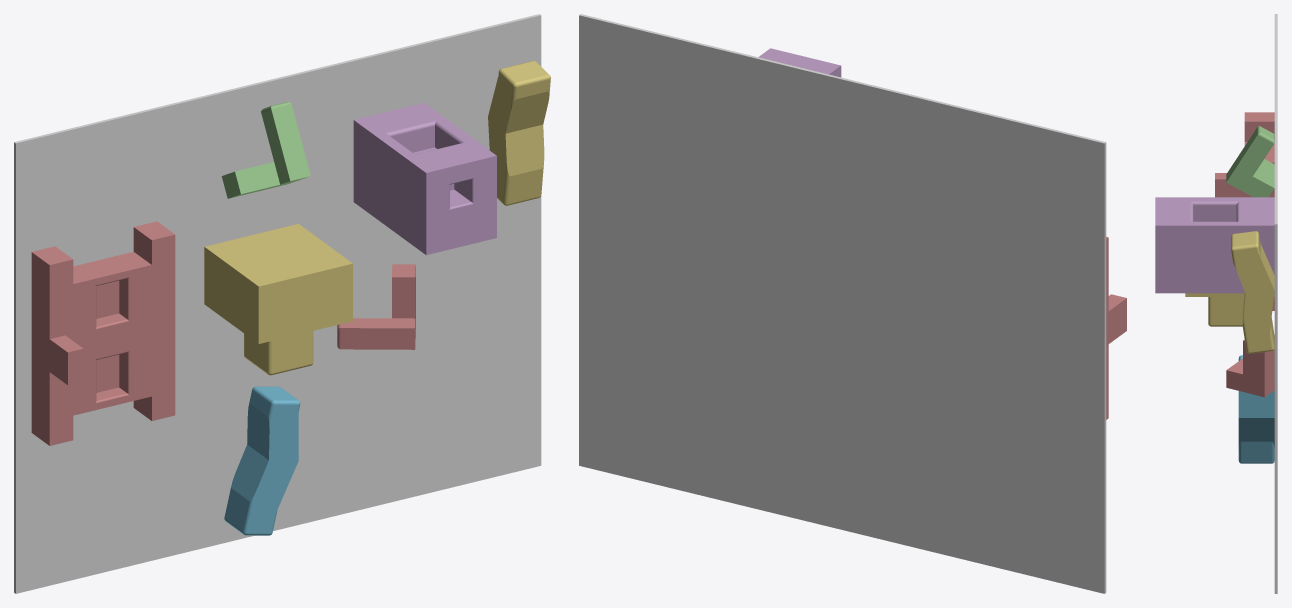
The model's file is pickup_layout.glb.
3 views of the same model, side by side, from view 1: azimuth 30°, elevation 25°; view 2: azimuth 150°, elevation 25°; view 3: azimuth 270°, elevation 25° (orthographic). The views are drawn at different scales.
Parts seen in each view (by area): view 1: world, 0.obj, 3.obj, 6.obj, 2.obj, 1.obj, 4.obj, 5.obj; view 2: world, 0.obj, 3.obj; view 3: 3.obj, 1.obj, 2.obj, 4.obj, world, 5.obj, 0.obj, 6.obj.
Part boxes in pixels (left/top/right/bottom): world: left=14, top=14, right=541, bottom=593; 0.obj: left=31, top=221, right=175, bottom=445; 3.obj: left=353, top=102, right=496, bottom=255; 6.obj: left=204, top=224, right=352, bottom=375; 2.obj: left=224, top=386, right=300, bottom=535; 1.obj: left=488, top=61, right=550, bottom=205; 4.obj: left=221, top=102, right=310, bottom=198; 5.obj: left=337, top=264, right=415, bottom=349; world: left=579, top=14, right=1106, bottom=593; 0.obj: left=1106, top=237, right=1126, bottom=419; 3.obj: left=758, top=48, right=841, bottom=77; 3.obj: left=1155, top=197, right=1274, bottom=293; 1.obj: left=1231, top=231, right=1274, bottom=353; 2.obj: left=1238, top=355, right=1274, bottom=463; 4.obj: left=1226, top=126, right=1274, bottom=197; world: left=1274, top=14, right=1277, bottom=593; 5.obj: left=1226, top=339, right=1274, bottom=397; 0.obj: left=1215, top=112, right=1274, bottom=310; 6.obj: left=1185, top=293, right=1274, bottom=326.
Bounding box in the file's own units: 33.45 × 27.4 × 8.2.
